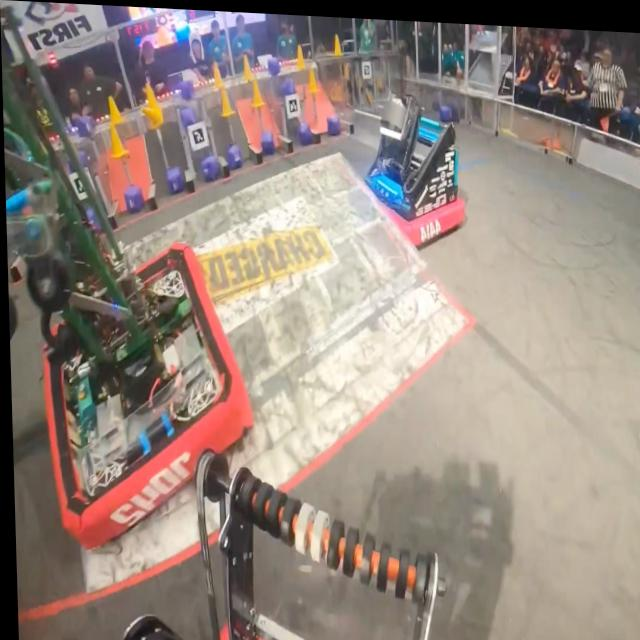robot: (0, 7, 255, 558), (358, 84, 466, 247)
